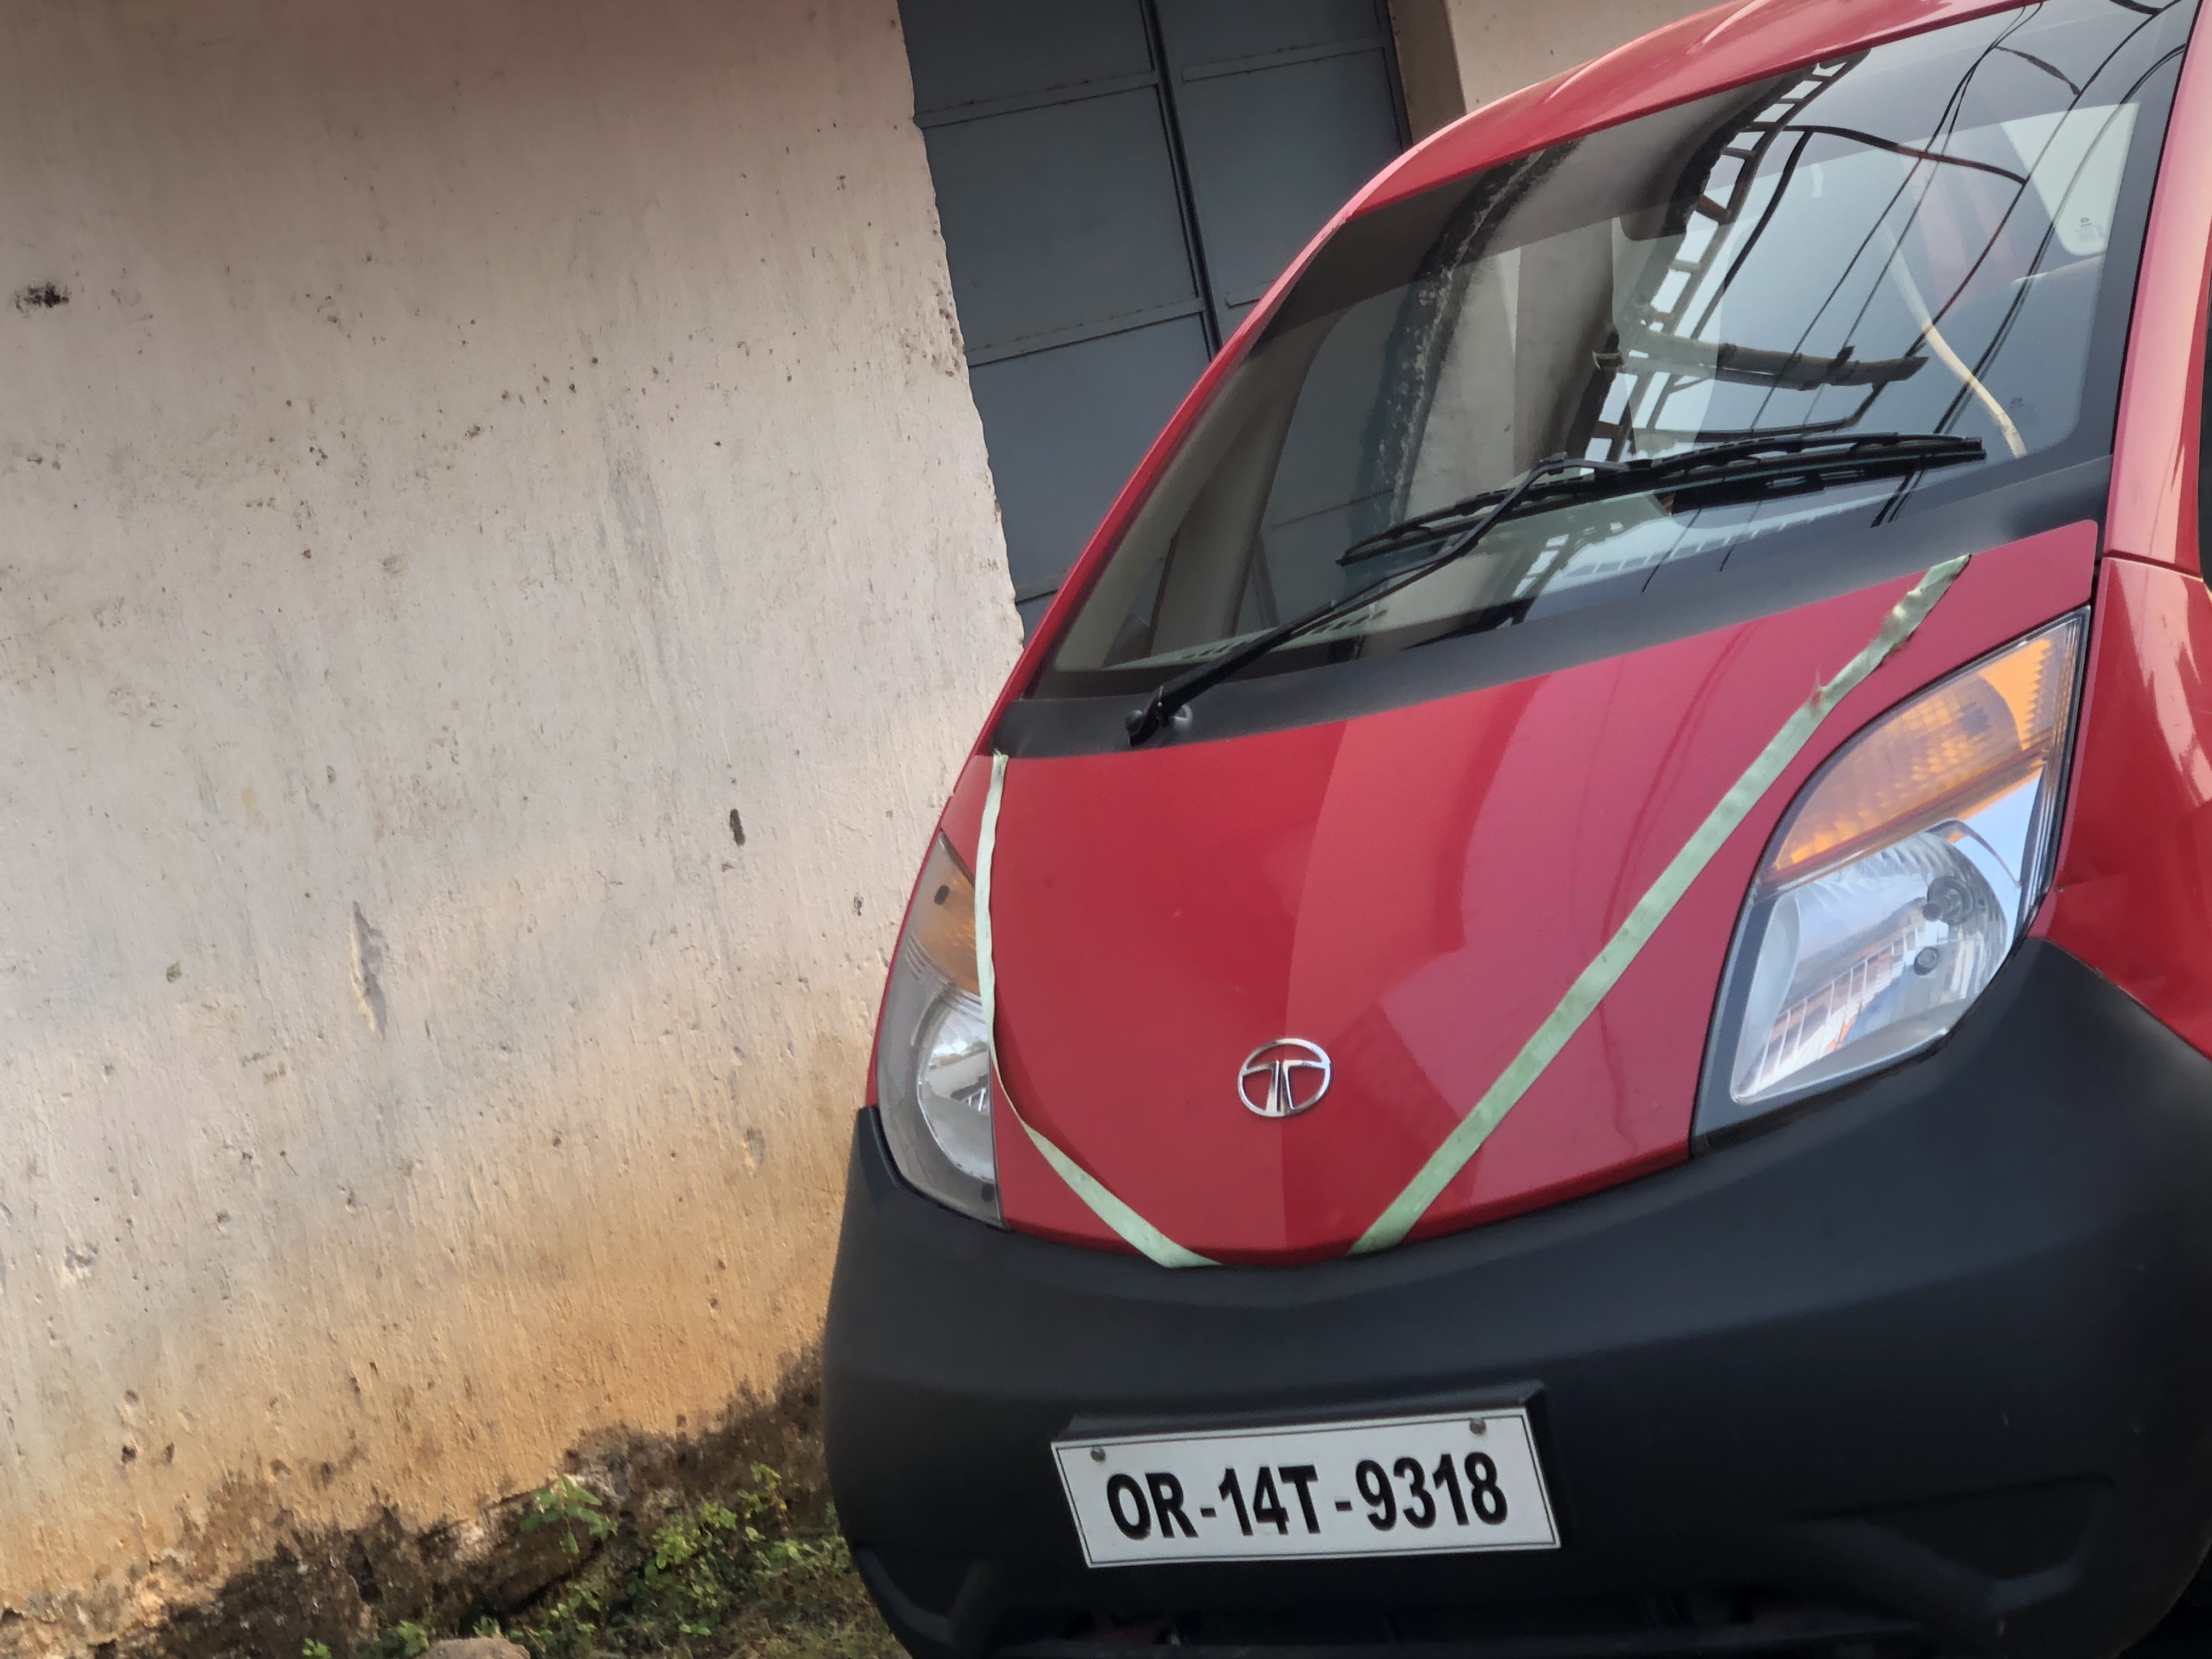licenseplate: (1025, 1397, 1573, 1585)
